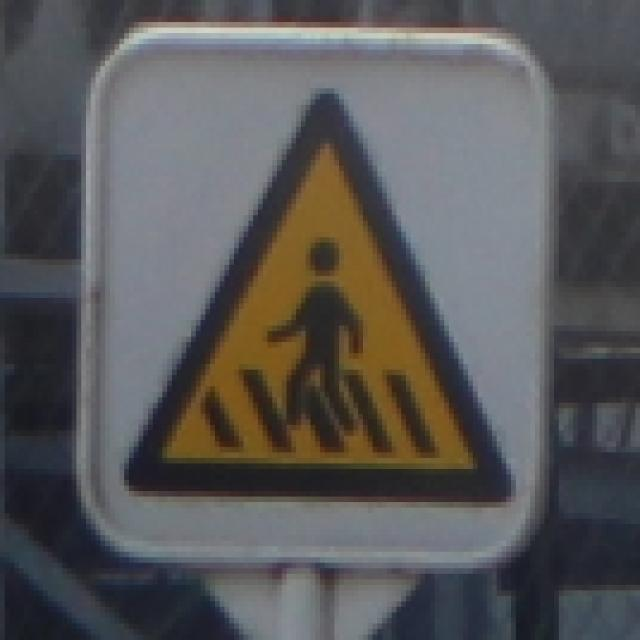Crossing: (117, 64, 534, 514)
